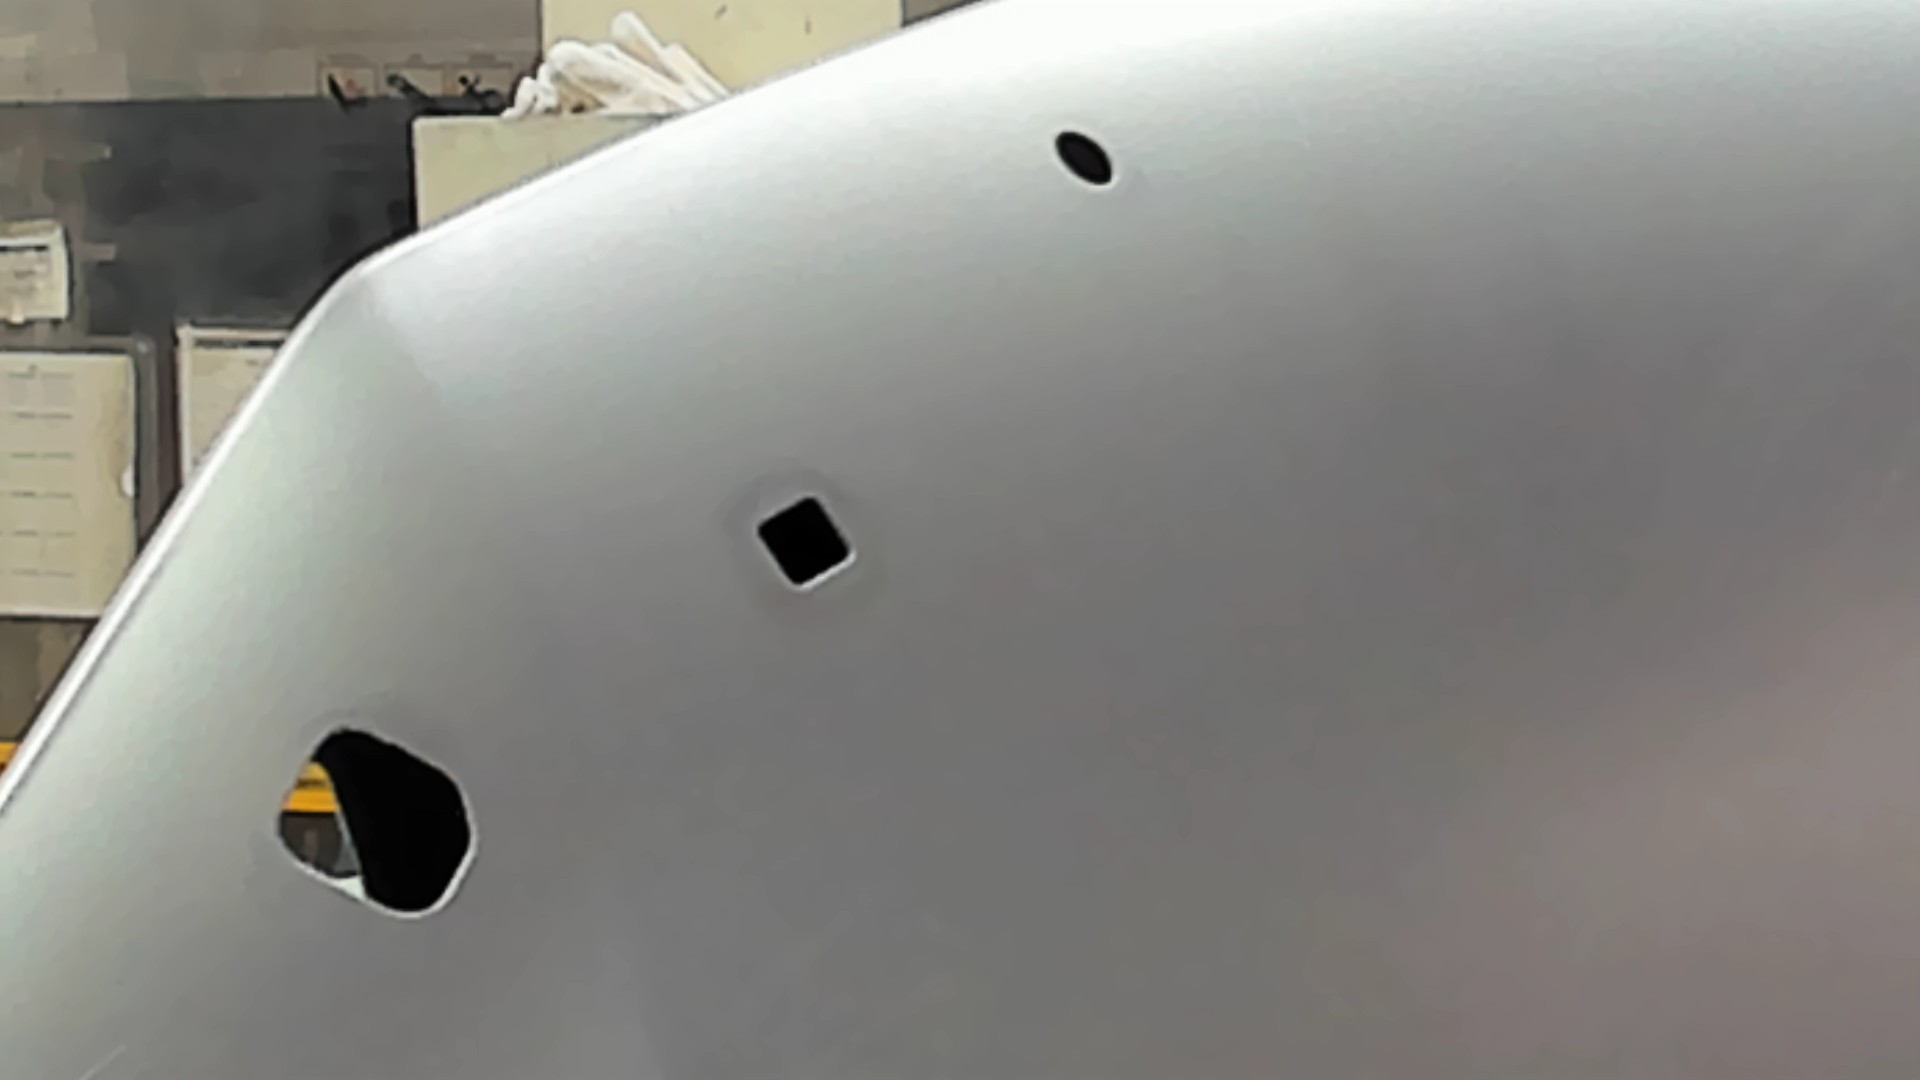capo: (866, 196, 1920, 1080)
chico: (1050, 127, 1121, 195)
grande: (266, 724, 477, 927)
mediano: (748, 488, 861, 597)
